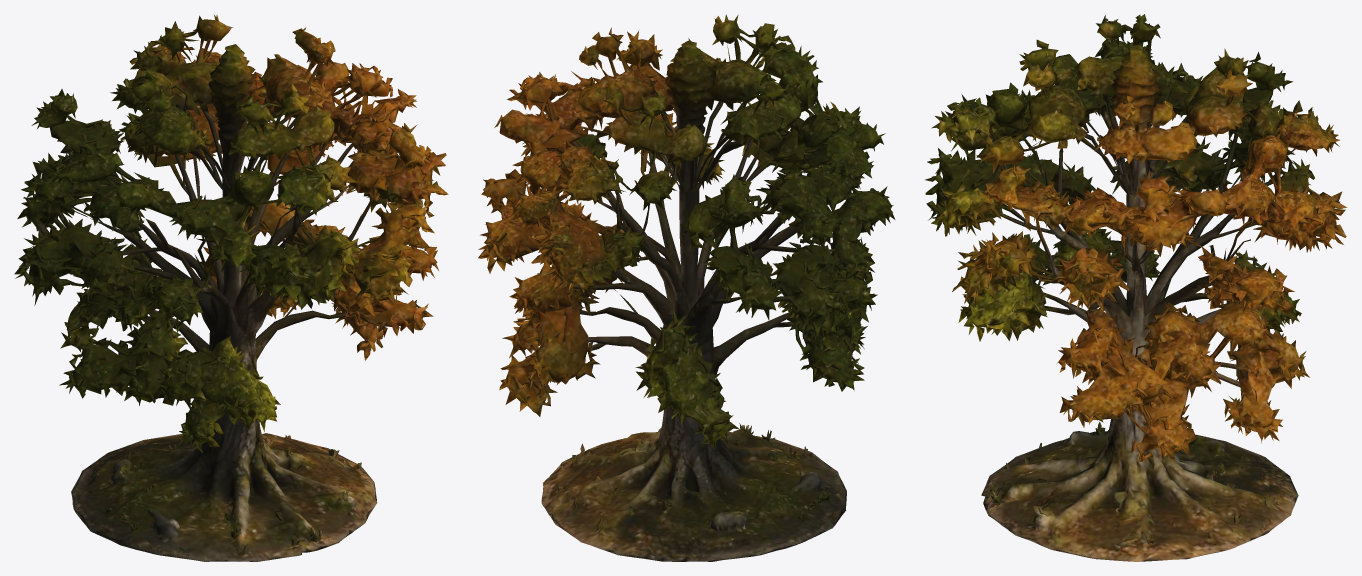
Rendered from autumn tree 3d model.glb.
The picture shows the model from 3 angles, left to right: view 1: azimuth 30°, elevation 25°; view 2: azimuth 150°, elevation 25°; view 3: azimuth 270°, elevation 25°; orthographic projection.
Visible parts, largest first — view 1: tripo_node_f2282e09-f8e5-4ee4-b1d8-04b0893de817; view 2: tripo_node_f2282e09-f8e5-4ee4-b1d8-04b0893de817; view 3: tripo_node_f2282e09-f8e5-4ee4-b1d8-04b0893de817.
Boxes of the visible parts, left/top/right/bottom form: tripo_node_f2282e09-f8e5-4ee4-b1d8-04b0893de817: left=14, top=15, right=448, bottom=561; tripo_node_f2282e09-f8e5-4ee4-b1d8-04b0893de817: left=478, top=14, right=895, bottom=561; tripo_node_f2282e09-f8e5-4ee4-b1d8-04b0893de817: left=925, top=14, right=1347, bottom=561.
Bounding box in the file's own units: 0.8586 × 0.9968 × 0.8447.
1 material, 1 textured.
